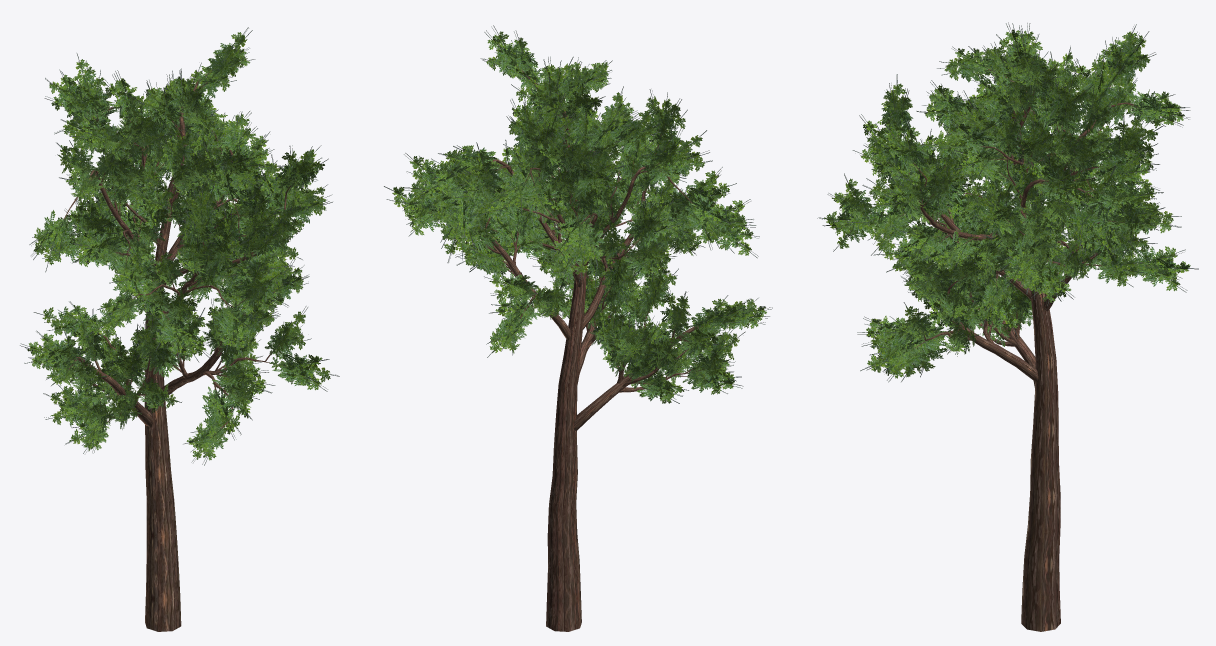
Rendered from eztree-shagbark-hickory-stand-c.glb.
3 renders of one model, left to right at view 1: azimuth 30°, elevation 25°; view 2: azimuth 150°, elevation 25°; view 3: azimuth 270°, elevation 25°, orthographic. The views are drawn at different scales.
Parts seen in each view (by area): view 1: eztree-shagbark-hickory-stand-c; view 2: eztree-shagbark-hickory-stand-c; view 3: eztree-shagbark-hickory-stand-c.
Part boxes in pixels (<box>): eztree-shagbark-hickory-stand-c: <box>20,27,339,631</box>; eztree-shagbark-hickory-stand-c: <box>384,25,772,631</box>; eztree-shagbark-hickory-stand-c: <box>817,22,1198,631</box>.
Size of the model in its own units: 50.27 by 83.49 by 47.52.
2 materials, 2 textured.
